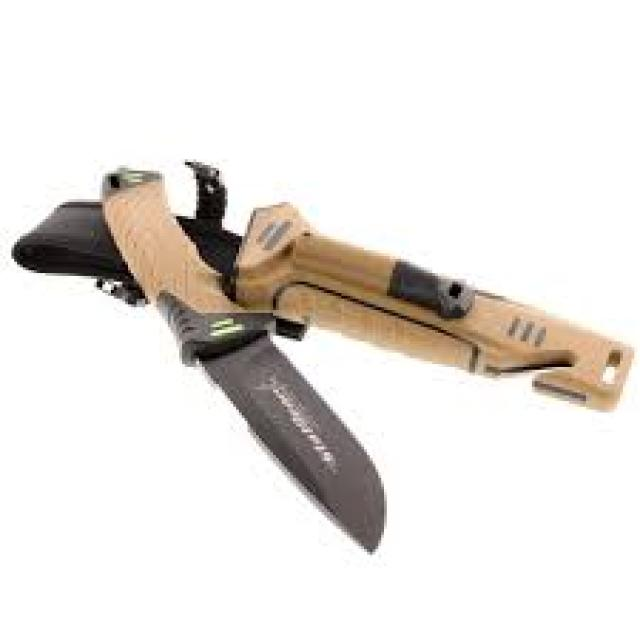knives: (18, 133, 640, 567)
